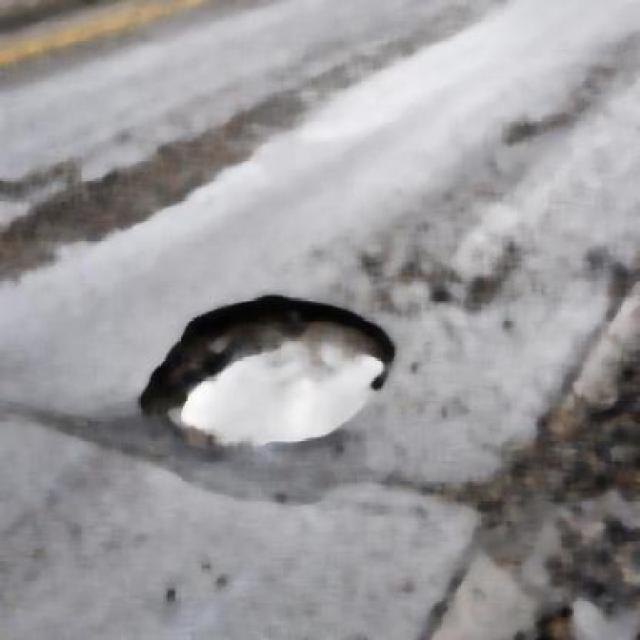Pothole: (144, 298, 396, 438)
